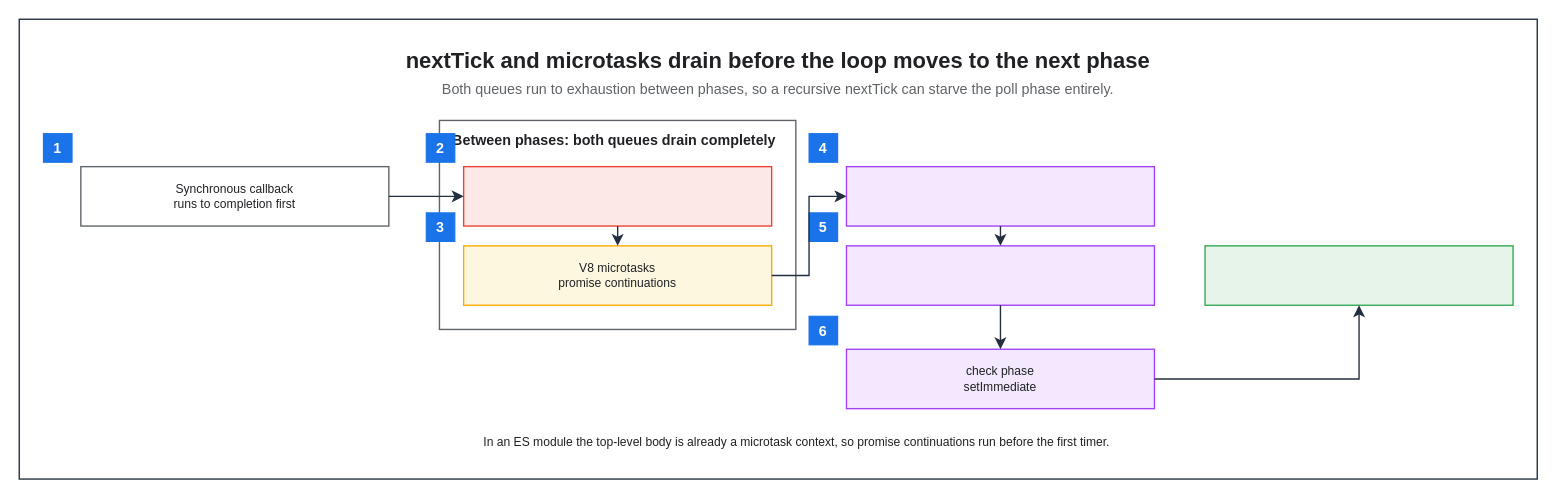
Image size: 1558x499. Some labels were removed from this diagram. Here are the shapes that lost their labels. From the top down, the centre of each, then its label:
At pixel 617 195: "process.nextTick queue drained first, and fully".
At pixel 1000 195: "timers phase setTimeout and setInterval".
At pixel 1000 275: "poll phase I/O callbacks".
At pixel 1358 275: "JavaScript continuation the next turn of the loop".
